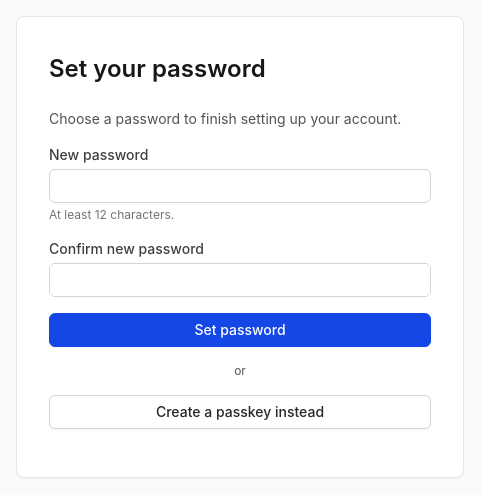
it: PasswordLinkPage › accepts an invitation through its own endpoint
Expected: the heading "Set your password" is shown, left=49, top=54, right=266, bottom=83
Step 1. Type "a-long-new-password" into the password field with id "link-password" → (240, 186), box left=49, top=169, right=431, bottom=203
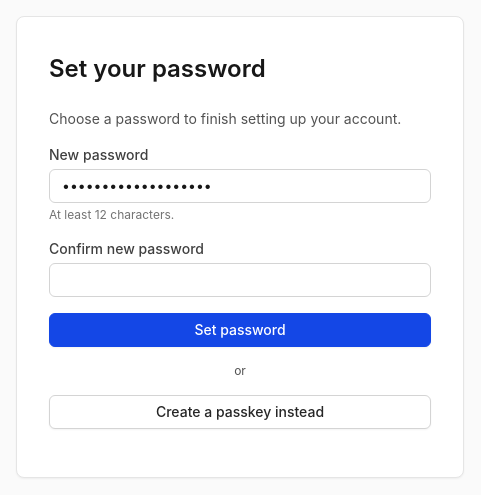
Step 2. Type "a-long-new-password" into the password field with id "link-confirm" → (240, 280), box left=49, top=263, right=431, bottom=297
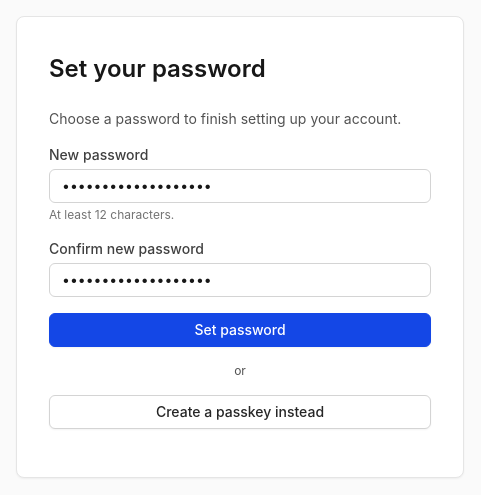
Step 3. Submit the form, box left=49, top=109, right=431, bottom=445
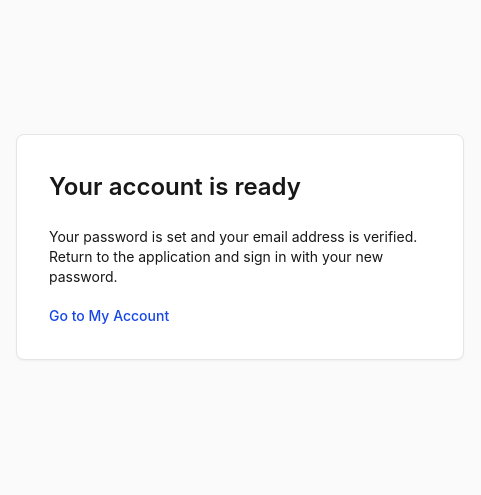
Expected: the heading "Your account is ready" is shown, left=49, top=172, right=301, bottom=201
